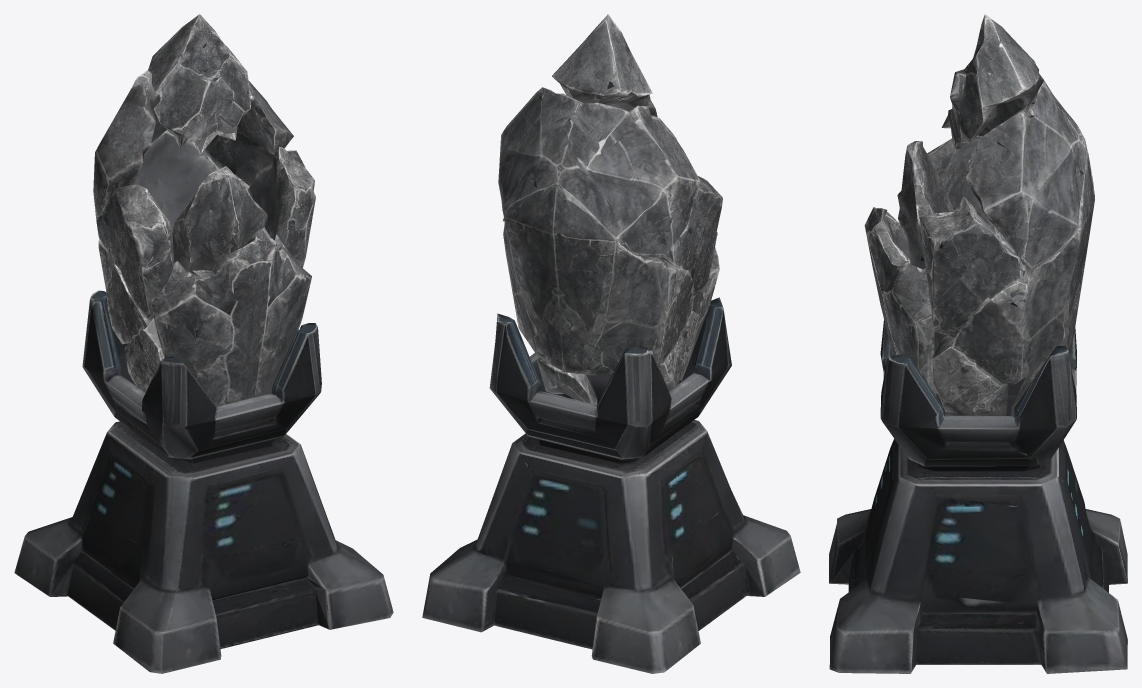
Rendered from obj_power_crystal_broken.glb.
3 views of the same model, side by side, from view 1: azimuth 30°, elevation 25°; view 2: azimuth 150°, elevation 25°; view 3: azimuth 270°, elevation 25° (orthographic). The views are drawn at different scales.
Size of the model in its own units: 0.4238 by 0.9507 by 0.4312.
1 material, 1 textured.
